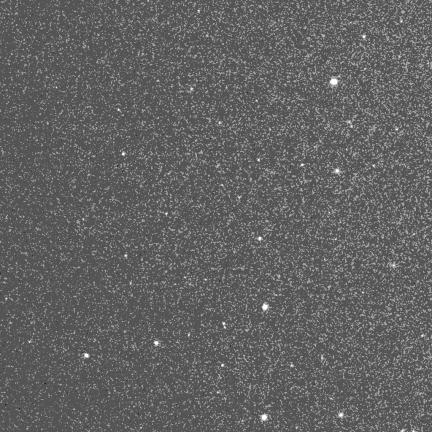blob: (330, 79, 337, 85), (262, 304, 268, 310), (262, 414, 267, 421), (154, 341, 160, 346), (84, 353, 89, 358), (339, 413, 343, 418), (335, 169, 340, 173), (258, 237, 262, 241), (362, 35, 366, 39), (257, 158, 261, 162), (223, 322, 226, 326), (122, 152, 125, 156), (165, 212, 168, 216), (219, 121, 222, 125), (125, 254, 127, 258), (222, 364, 224, 367), (301, 164, 304, 166)
